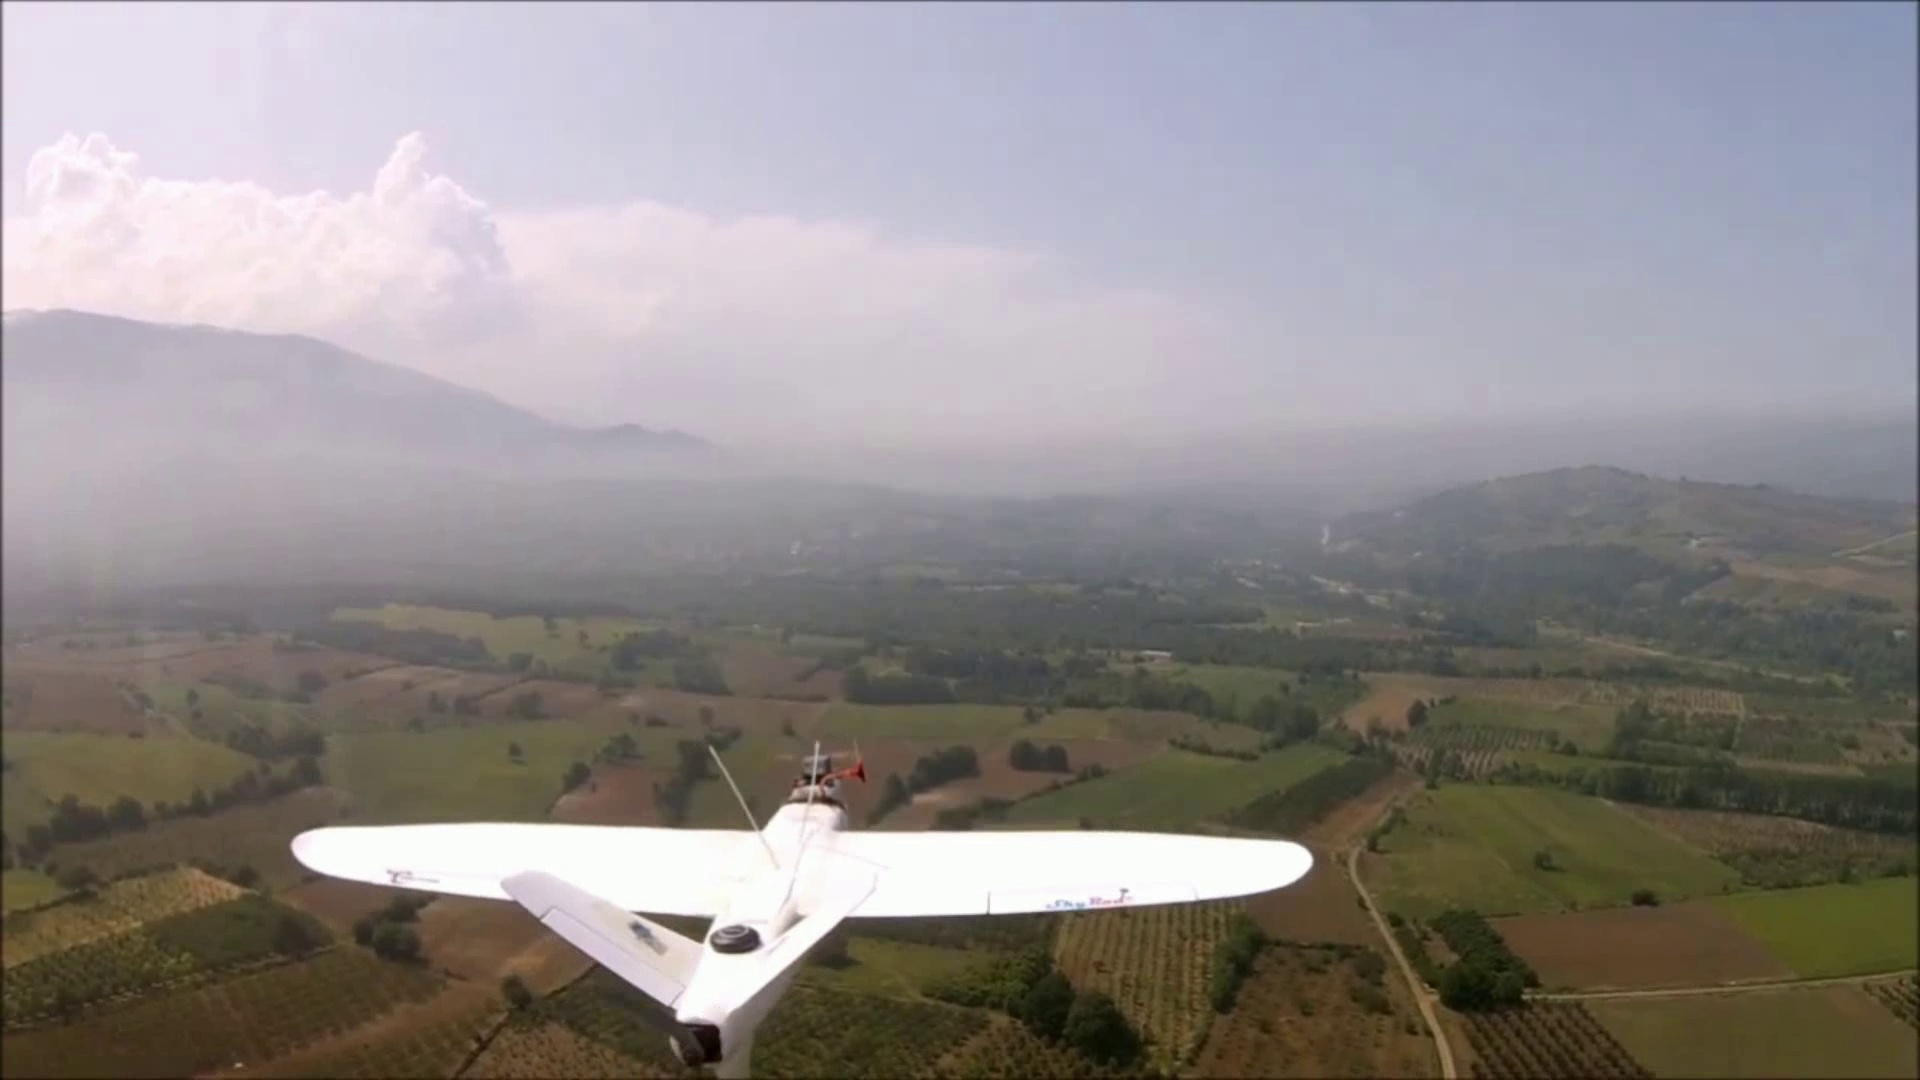airplane: (287, 757, 1313, 1071)
